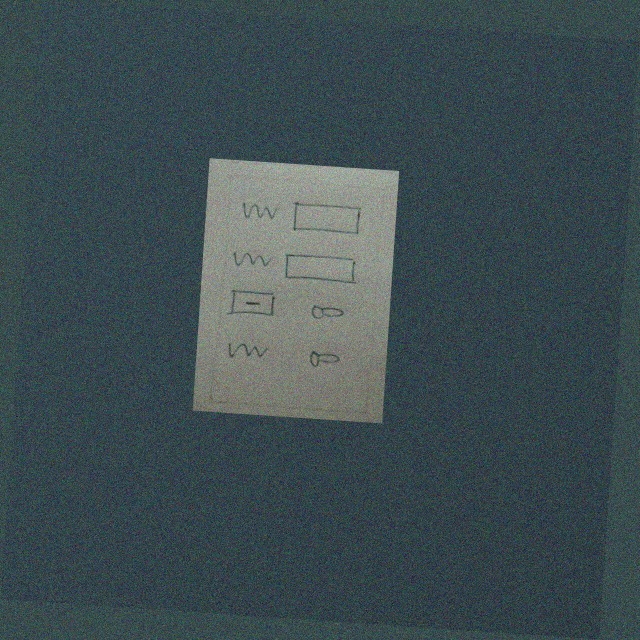button: (224, 287, 279, 322)
switch: (305, 346, 342, 373), (307, 301, 346, 324)
text: (235, 198, 283, 227), (225, 337, 270, 362), (230, 249, 273, 273)
text_input: (289, 198, 364, 240), (281, 251, 361, 288)
